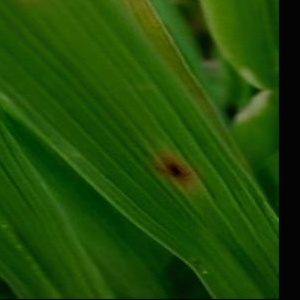Bacterial_Leaf_Blight: (155, 150, 197, 186)
